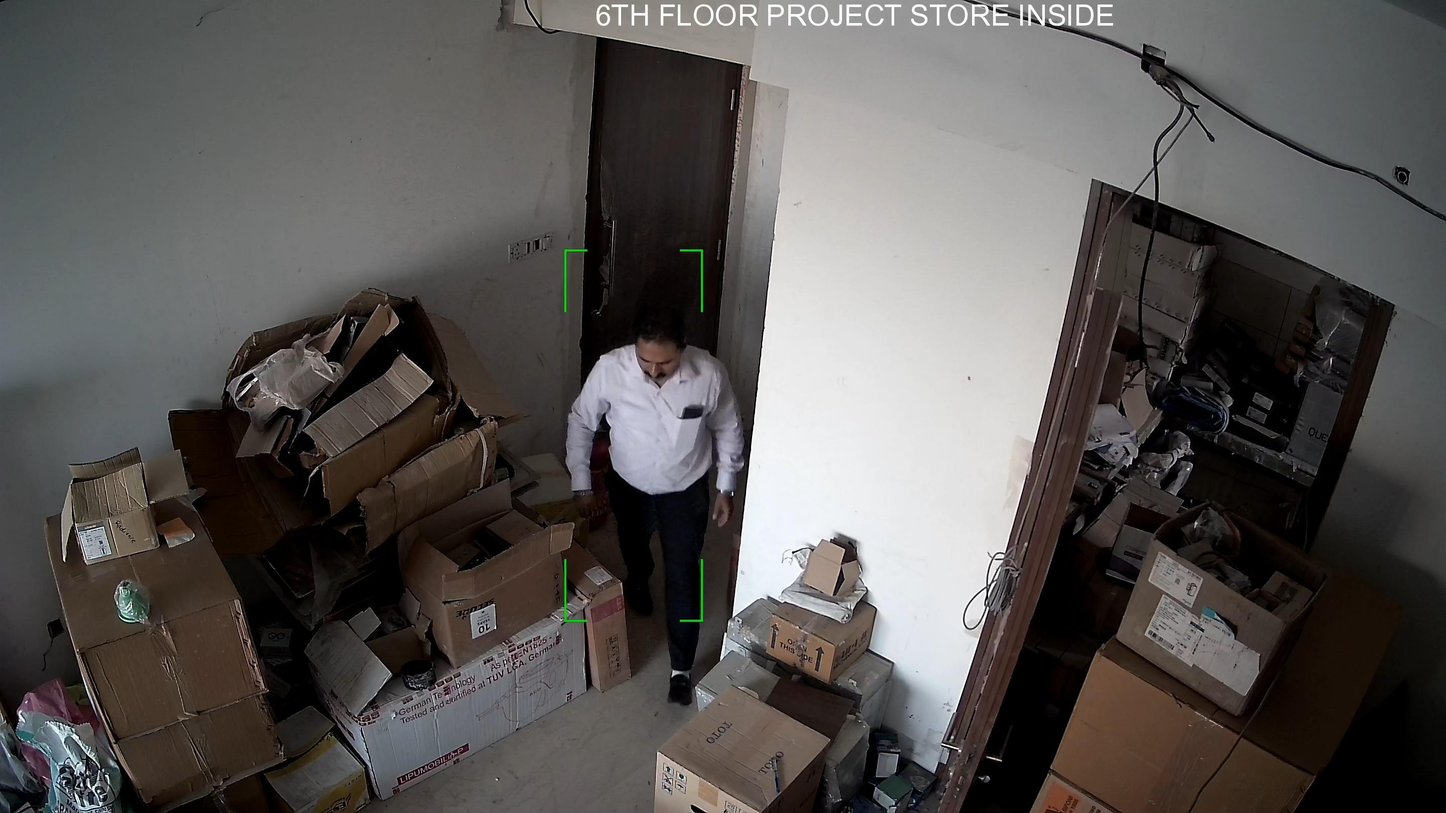Door-Close: (569, 36, 755, 448)
